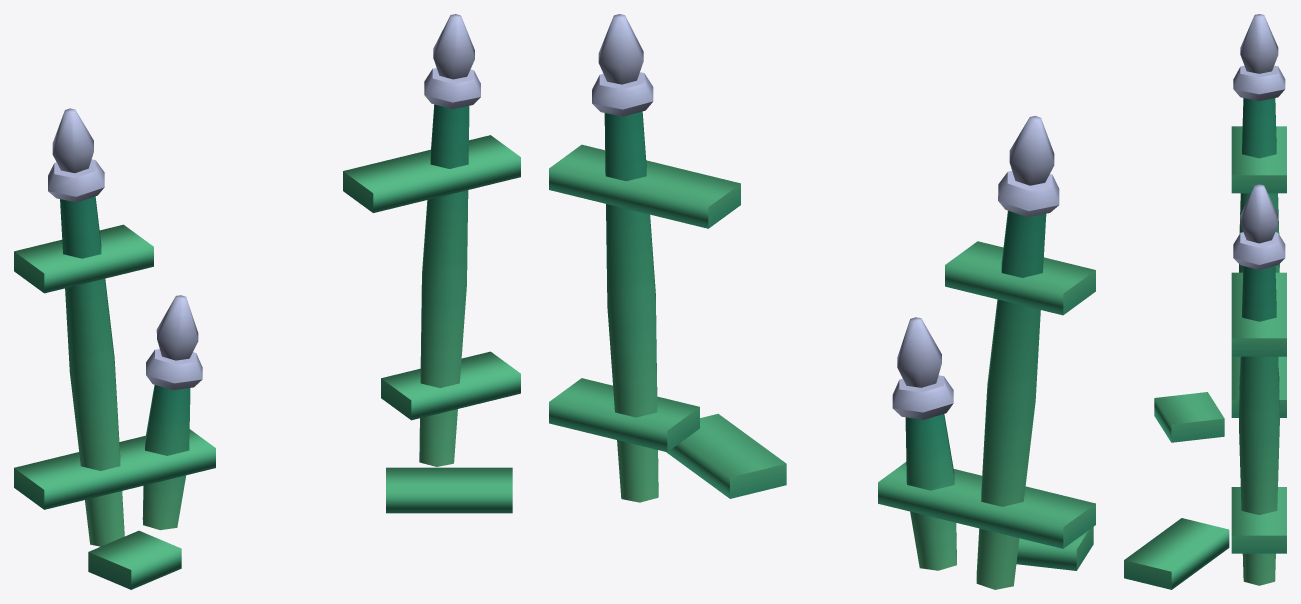
Rendered from kenney-iron-fence-damaged.glb.
3 views of the same model, side by side, from view 1: azimuth 30°, elevation 25°; view 2: azimuth 150°, elevation 25°; view 3: azimuth 270°, elevation 25° (orthographic). The views are drawn at different scales.
Parts seen in each view (by area): view 1: iron-fence-damaged; view 2: iron-fence-damaged; view 3: iron-fence-damaged.
Boxes of the visible parts, x1,y1,x2,y2 form: iron-fence-damaged: [14, 14, 520, 589]; iron-fence-damaged: [549, 14, 1095, 589]; iron-fence-damaged: [1124, 14, 1286, 589].
Bounding box in the file's own units: 1 × 0.8804 × 0.3248.
Materials: 1 (1 with a texture image).
